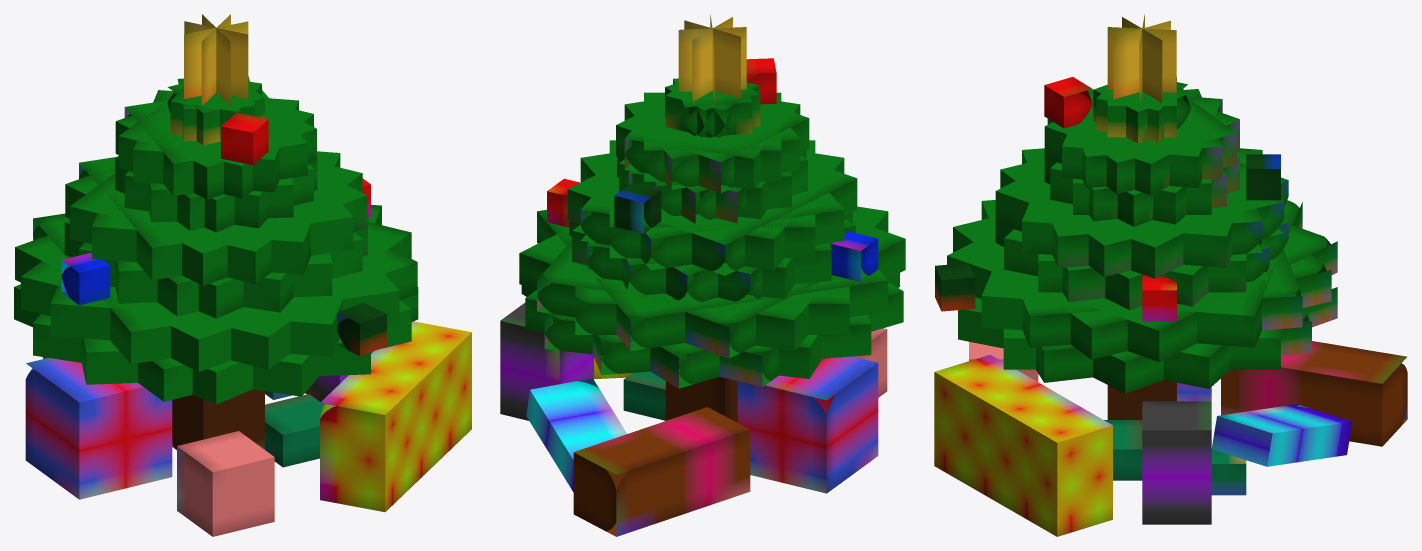
Rendered from mini_cmas_tree.obj.
3 views of the same model, side by side, from view 1: azimuth 30°, elevation 25°; view 2: azimuth 150°, elevation 25°; view 3: azimuth 270°, elevation 25° (orthographic). The views are drawn at different scales.
Parts seen in each view (by area): view 1: Present3, Present1, Present2, Leaves6, Leaves2, Leaves4, Leaves16, Leaves12, Leaves14, Leaves8, Leaves18, Leaves10 (+28 smaller); view 2: Present8, Present1, Leaves2, Leaves4, Leaves12, Leaves8, Present4, Present5, Leaves10, Leaves24, Leaves18, Leaves16 (+29 smaller); view 3: Present3, Present8, Present5, Leaves4, Present4, Leaves2, Leaves14, Leaves6, Leaves8, Leaves18, Leaves10, Leaves12 (+31 smaller).
Part boxes in pixels (x1,y1,x2,y2): Present3: (320,321,471,512); Present1: (25,358,172,499); Present2: (177,431,274,536); Leaves6: (21,221,411,369); Leaves2: (50,204,381,356); Leaves4: (33,213,399,364); Leaves16: (65,167,367,285); Leaves12: (79,157,353,280); Leaves14: (69,162,362,283); Leaves8: (15,235,417,371); Leaves18: (124,90,307,195); Leaves10: (92,151,340,274); Present8: (573,407,750,536); Present1: (737,356,878,493); Leaves2: (537,209,888,350); Leaves4: (519,220,905,358); Leaves12: (567,161,857,275); Leaves8: (537,206,888,351); Present4: (526,378,626,491); Present5: (500,303,593,420); Leaves10: (580,152,844,270); Leaves24: (624,84,800,189); Leaves18: (616,103,809,193); Leaves16: (580,152,844,270); Present3: (934,354,1112,536); Present8: (1221,341,1407,446); Present5: (1142,401,1211,524); Leaves4: (981,200,1302,347); Present4: (1211,404,1352,466); Leaves2: (947,224,1337,362); Leaves14: (1000,159,1284,276); Leaves6: (953,216,1331,359); Leaves8: (981,200,1302,347); Leaves18: (1062,89,1222,187); Leaves10: (995,163,1288,278); Leaves12: (1022,148,1262,267).
Bounding box in the file's own units: 0.7798 × 0.8166 × 0.8537.
